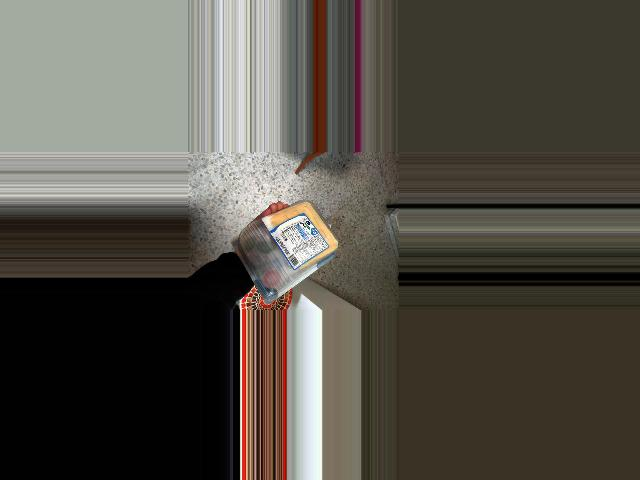cheese: (247, 210, 340, 262)
